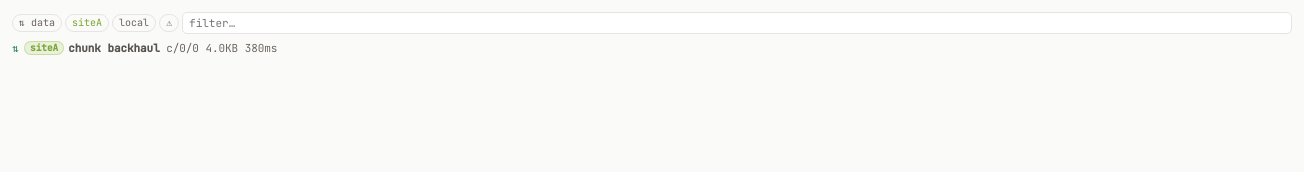
it: Console rendering › says which empty it is: no events vs no matches
Check: the text "No activity yet" is shown, box [12,41,277,55]
Type "zzz" into the field with placeholder "filter…" at (737, 23), box [182,12,1292,34]
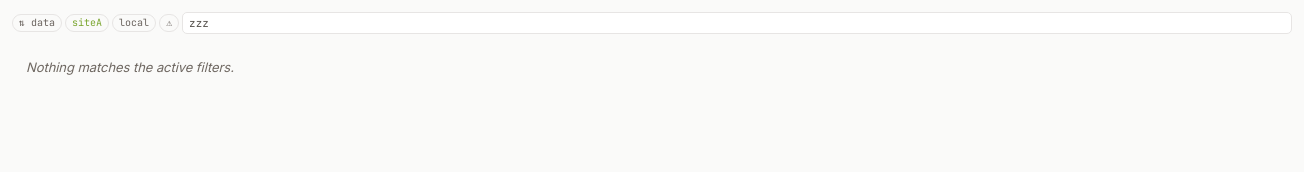
Check: the text "Nothing matches the active filters." is shown, box [26,59,234,75]
